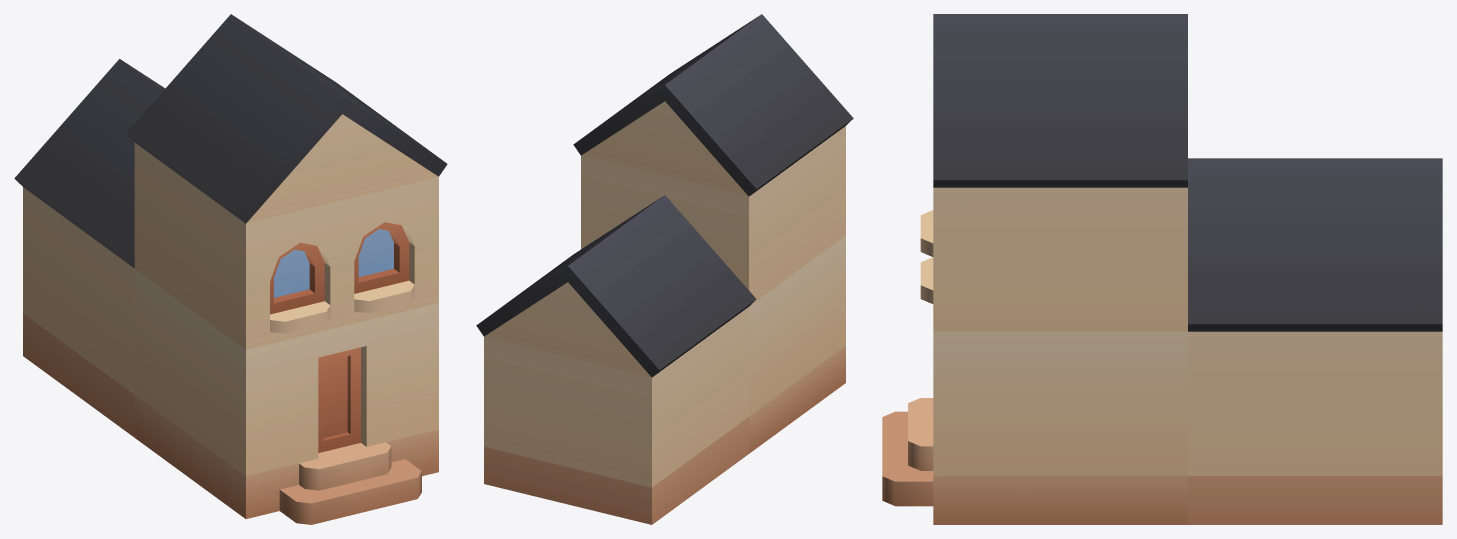
The model's file is kenney-modular-buildings-building-sample-house-b.glb.
3 views of the same model, side by side, from view 1: azimuth 30°, elevation 25°; view 2: azimuth 150°, elevation 25°; view 3: azimuth 270°, elevation 25° (orthographic). The views are drawn at different scales.
Parts seen in each view (by area): view 1: building-sample-house-b; view 2: building-sample-house-b; view 3: building-sample-house-b.
Part boxes in pixels (x1,y1,x2,y2): building-sample-house-b: [14, 14, 447, 524]; building-sample-house-b: [476, 14, 853, 524]; building-sample-house-b: [882, 14, 1442, 524].
Bounding box in the file's own units: 1.09 × 1.98 × 2.2.
Materials: 1 (1 with a texture image).
